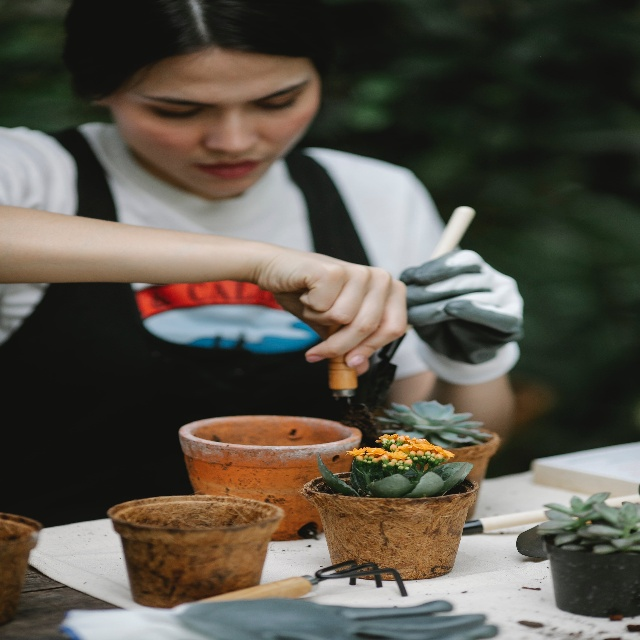Guantes: (400, 249, 525, 387), (174, 597, 497, 640)
Sin_guantes: (252, 244, 408, 376)
